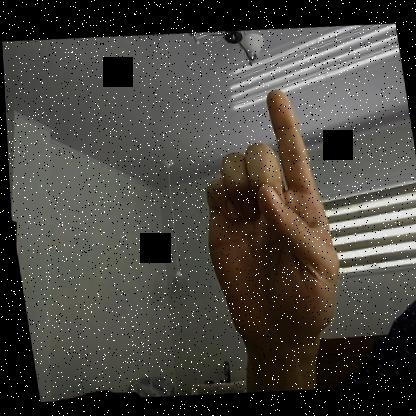D: (180, 76, 347, 347)
